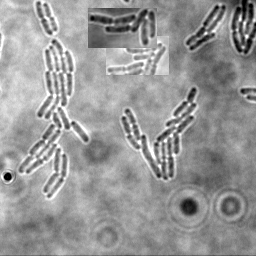Dividing: (34, 1, 52, 37), (41, 3, 57, 33)
Microcolony: (18, 40, 89, 199), (120, 87, 197, 181), (88, 8, 157, 48), (106, 36, 169, 75), (184, 5, 226, 52), (230, 1, 255, 56)
